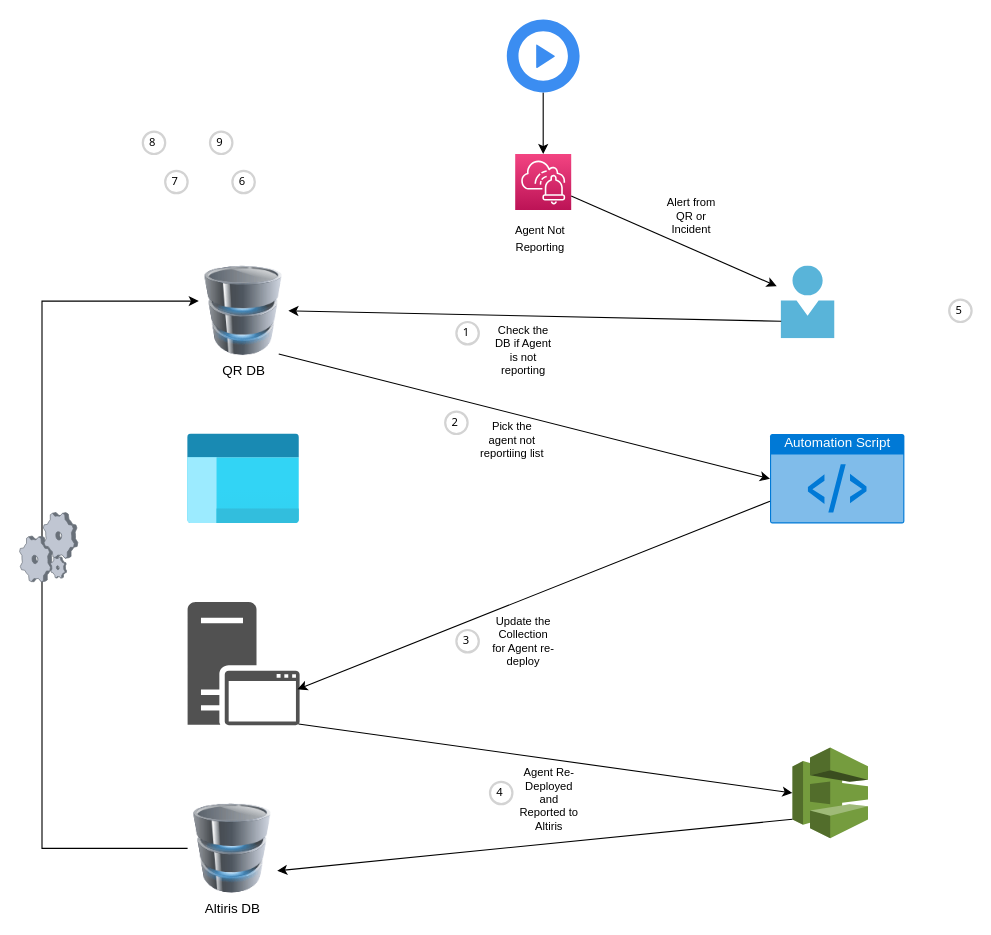
The diagram is 991 pixels wide and 935 high, and some of its shapes have lost their labels. Here are the shapes that lost their labels. From the top down, the centre of each, then its label:
point (808, 301): System Admin
point (243, 478): Altiris Portal
point (243, 663): SCCM
point (829, 792): Agent Deployed
